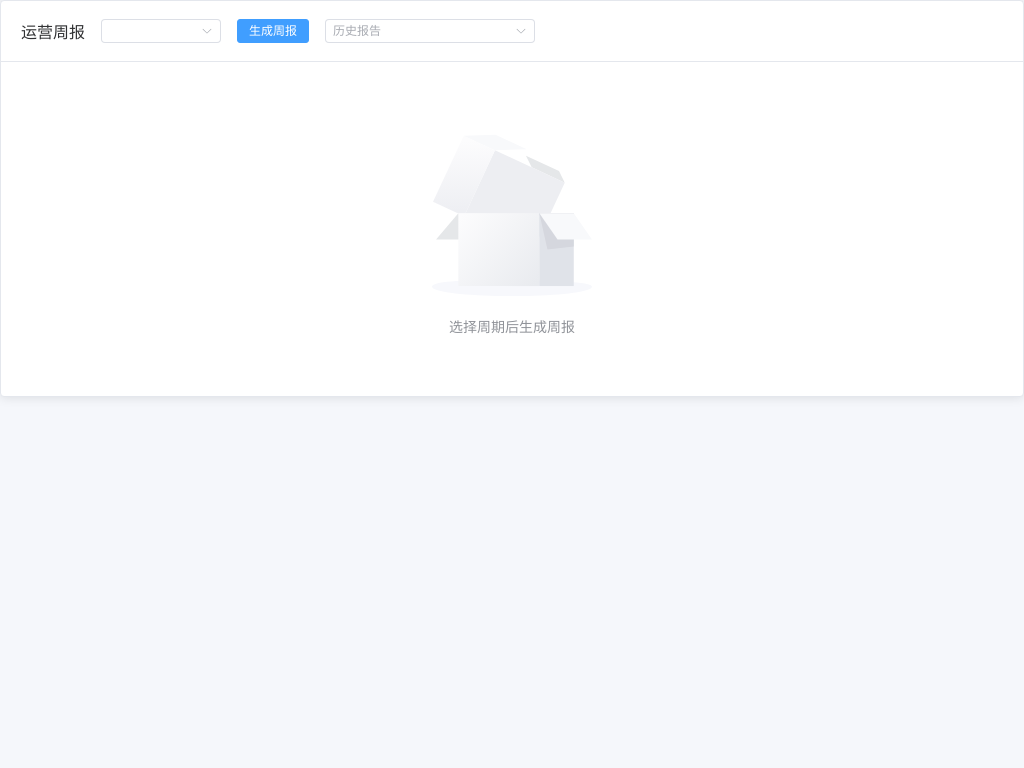
AiReport › 空数据时显示占位
The width and height of the screenshot is (1024, 768).
Click the button "生成周报" at [273, 31], box x1=237 y1=19 x2=309 y2=43
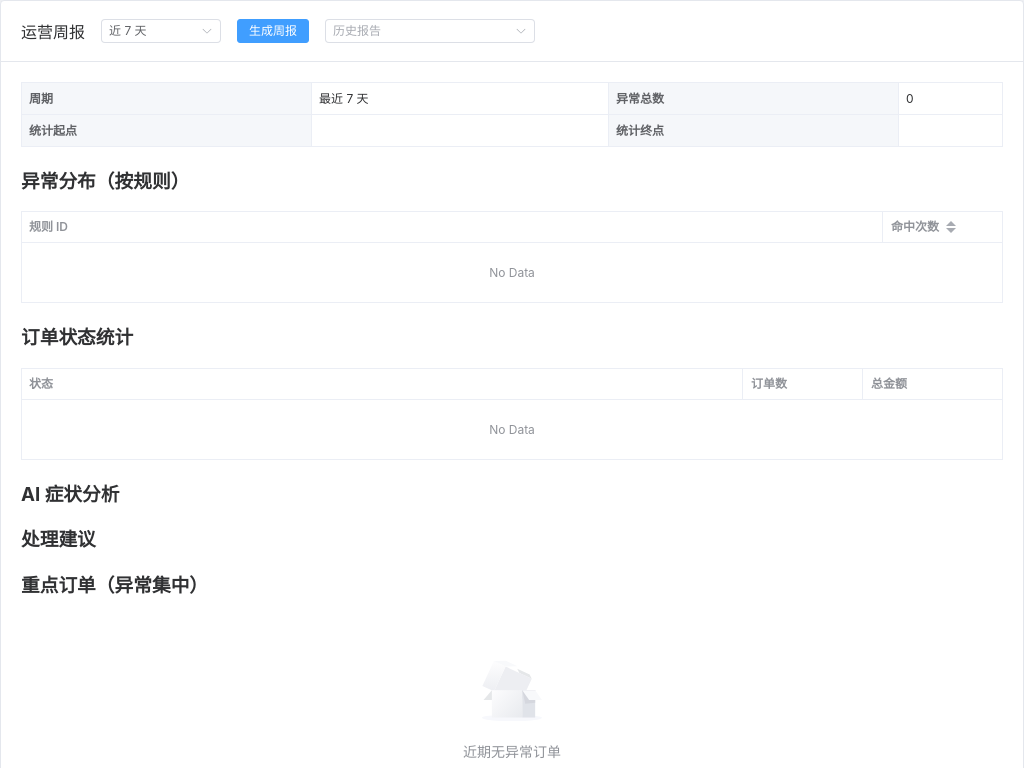
expect the text "近期无异常订单" is shown: met, box x1=463 y1=741 x2=561 y2=761
